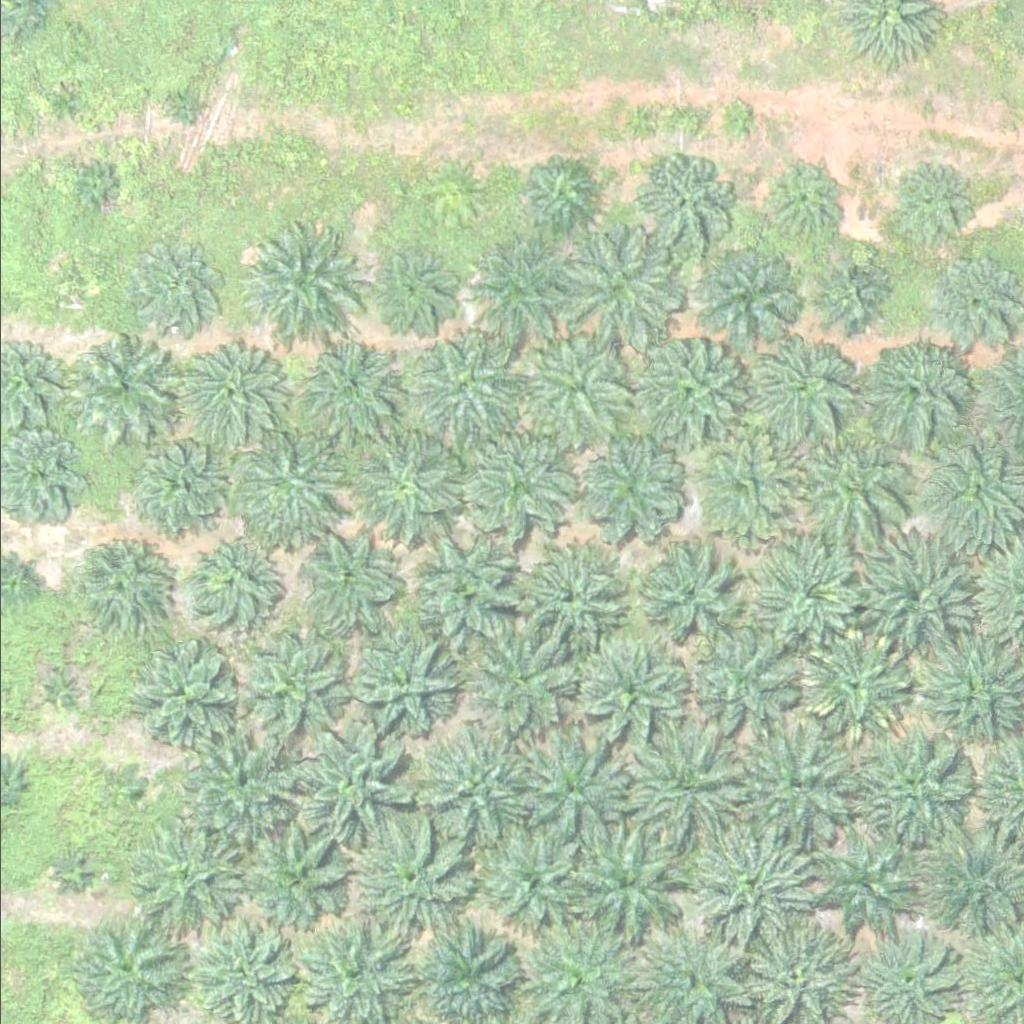Kelapa_Sawit: (687, 816, 813, 941), (852, 724, 978, 849), (732, 722, 858, 847), (617, 712, 743, 837), (558, 222, 684, 347), (238, 215, 364, 340), (224, 625, 350, 750), (509, 728, 635, 853), (415, 726, 541, 851), (280, 721, 406, 846), (165, 721, 291, 846), (570, 818, 696, 943), (471, 822, 597, 947), (350, 818, 476, 943), (237, 808, 363, 933), (224, 427, 349, 552), (188, 910, 302, 1023), (795, 431, 908, 544), (689, 425, 802, 538), (628, 337, 741, 450), (744, 327, 857, 440), (860, 337, 973, 450), (578, 435, 691, 548), (508, 543, 621, 656), (68, 326, 181, 439), (463, 430, 576, 543), (350, 430, 463, 543), (412, 528, 525, 641), (122, 642, 235, 755), (460, 622, 574, 734), (799, 630, 912, 742), (683, 629, 796, 741), (630, 536, 743, 648), (754, 536, 867, 648), (856, 543, 969, 655), (574, 637, 687, 749), (512, 335, 625, 447), (461, 236, 574, 348), (405, 331, 518, 443), (172, 333, 285, 445), (348, 624, 461, 736), (122, 821, 235, 933), (922, 255, 1023, 355), (691, 247, 792, 347), (124, 236, 225, 336), (296, 339, 397, 439), (124, 437, 225, 537), (296, 527, 397, 627), (179, 529, 280, 629), (66, 527, 167, 627), (819, 834, 919, 934), (629, 151, 729, 251), (883, 160, 971, 248), (755, 158, 843, 246), (372, 248, 460, 335), (519, 157, 595, 232), (813, 259, 888, 334), (47, 846, 97, 896), (32, 662, 82, 712), (101, 765, 151, 815), (46, 86, 84, 124), (165, 87, 203, 125), (714, 101, 752, 138), (53, 272, 90, 310), (72, 168, 110, 205)
